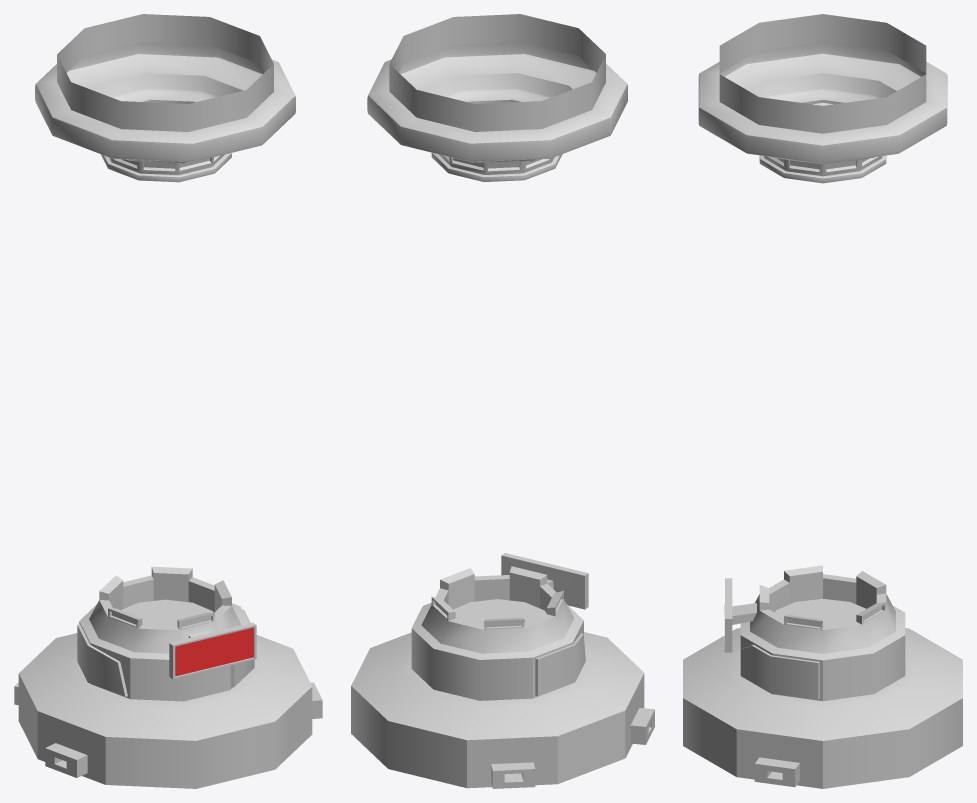
The model's file is Tubo_soporte.fbx.
3 views of the same model, side by side, from view 1: azimuth 30°, elevation 25°; view 2: azimuth 150°, elevation 25°; view 3: azimuth 270°, elevation 25° (orthographic).
Parts seen in each view (by area): view 1: Tubocentral_001; view 2: Tubocentral_001; view 3: Tubocentral_001.
Part boxes in pixels (x1=…): Tubocentral_001: x1=14, y1=14, x2=322, y2=788; Tubocentral_001: x1=351, y1=14, x2=654, y2=788; Tubocentral_001: x1=683, y1=14, x2=962, y2=788.
Bounding box in the file's own units: 107 × 255 × 96.92.
